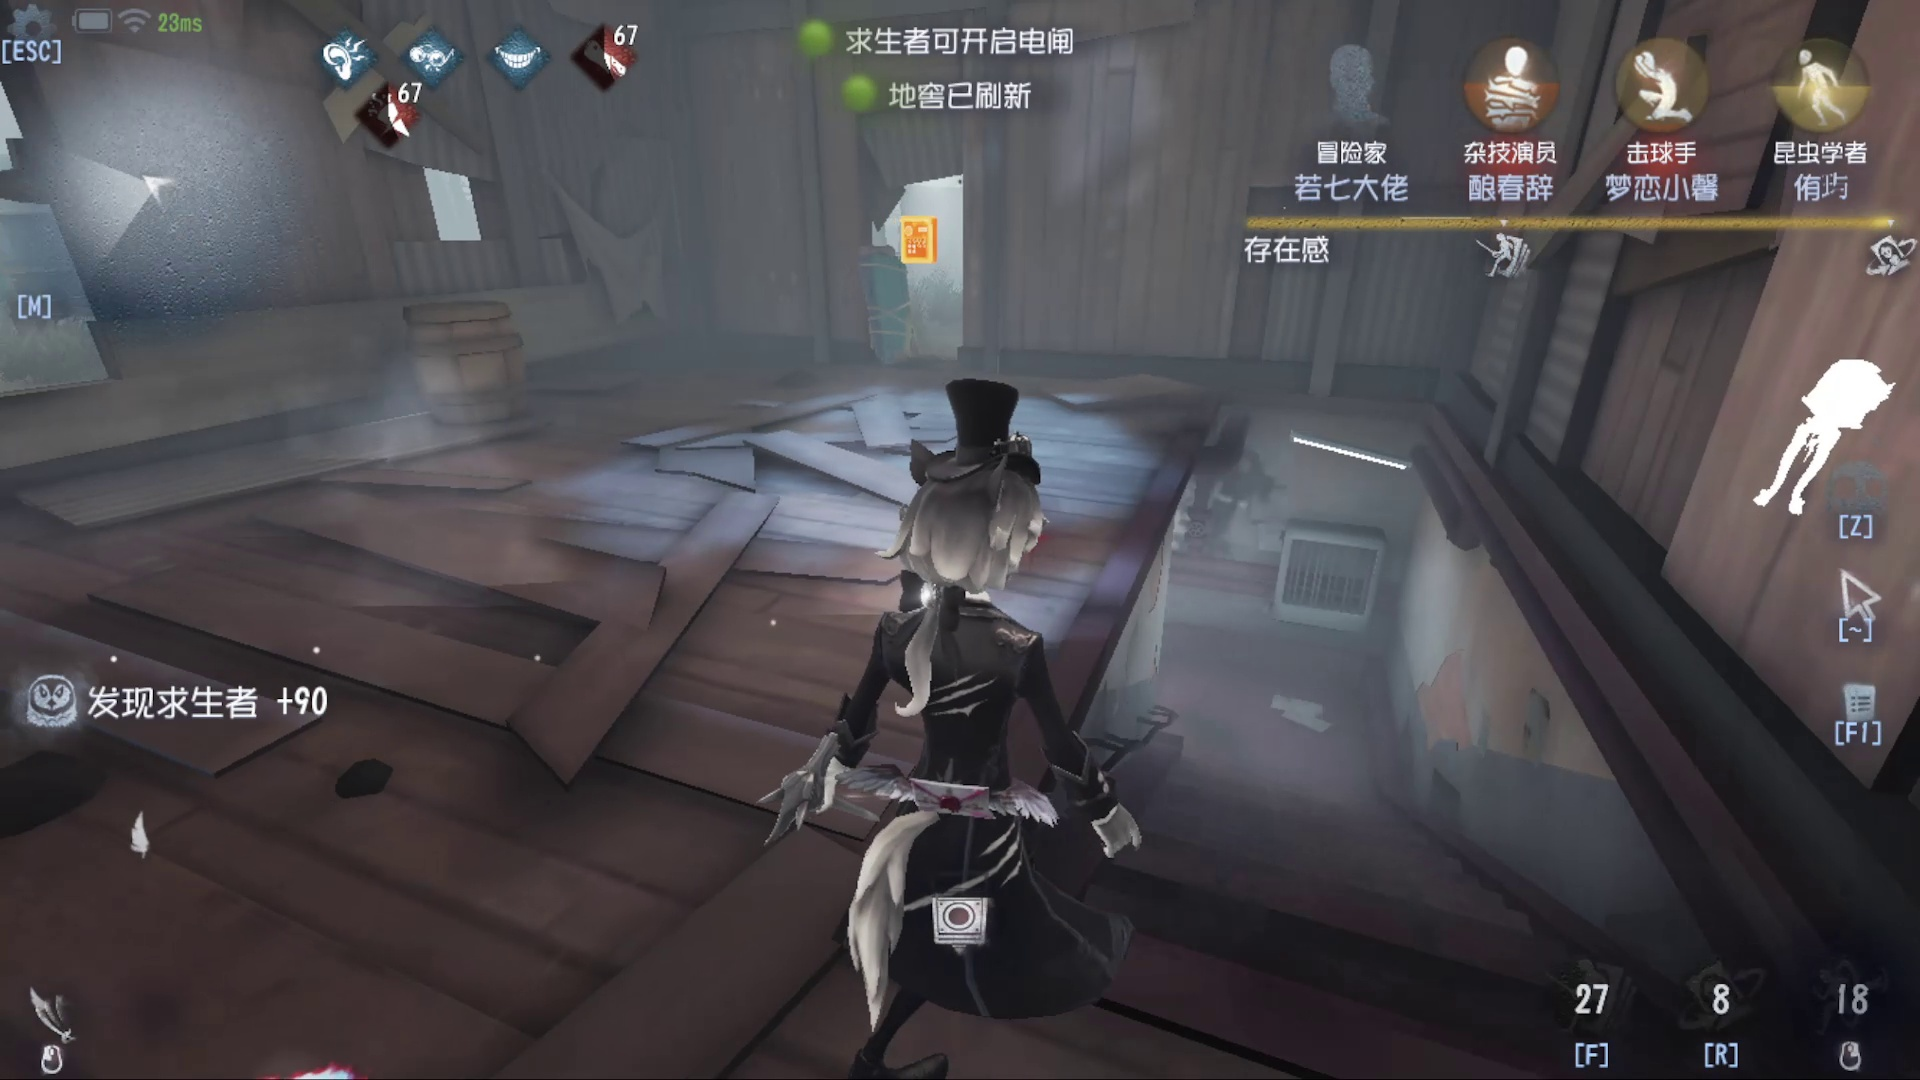木板: (848, 214, 931, 375)
